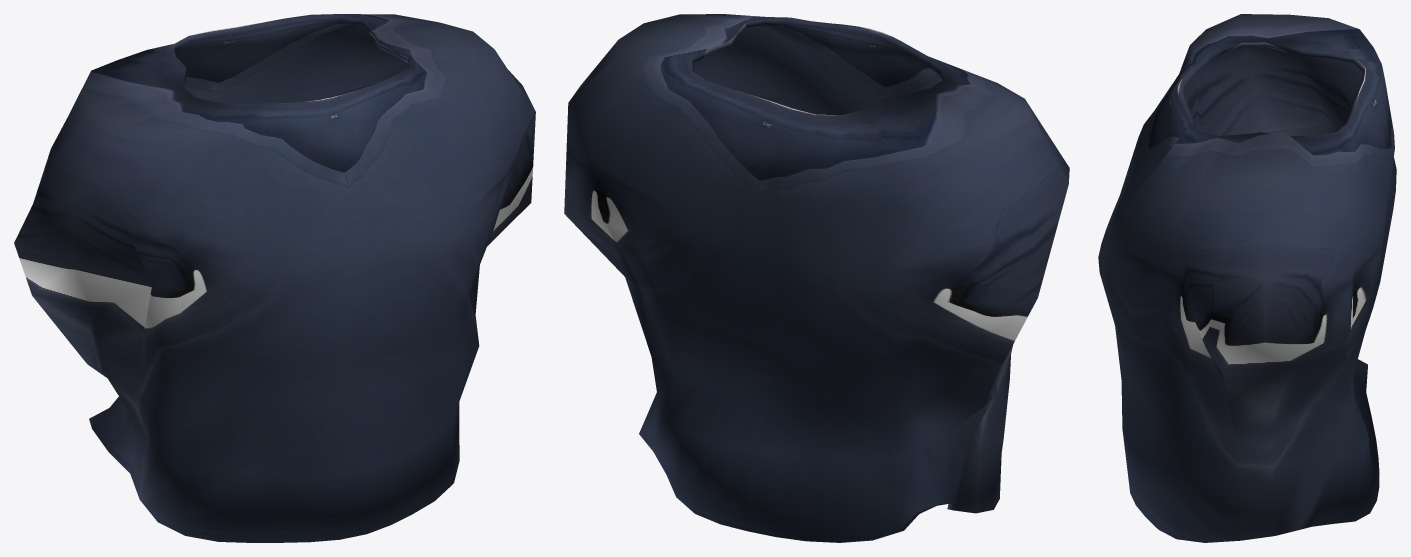
3 renders of one model, left to right at view 1: azimuth 30°, elevation 25°; view 2: azimuth 150°, elevation 25°; view 3: azimuth 270°, elevation 25°, orthographic. The views are drawn at different scales.
Visible parts, largest first — view 1: garment; view 2: garment; view 3: garment.
Boxes of the visible parts, bbox=[...] form: garment: bbox=[14, 14, 535, 542]; garment: bbox=[564, 14, 1069, 542]; garment: bbox=[1098, 14, 1396, 542].
Size of the model in its own units: 0.5562 by 0.4714 by 0.3181.
Materials: 1 (1 with a texture image).
